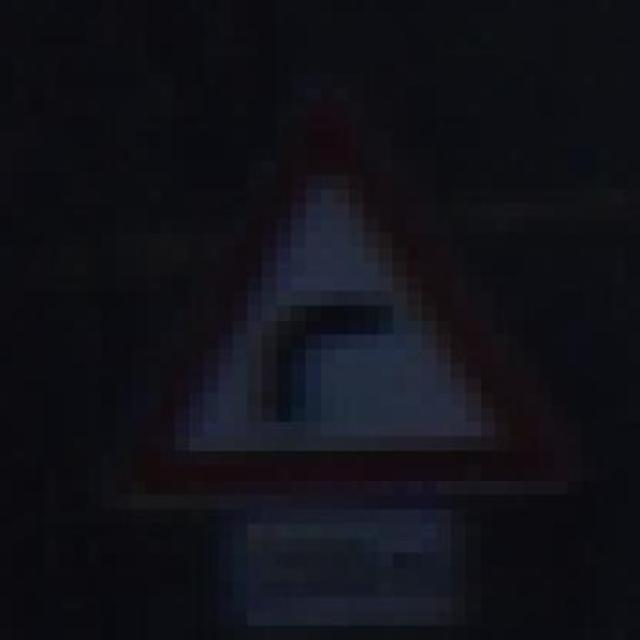Dangerous Rright Curve Ahead: (102, 131, 568, 509)
